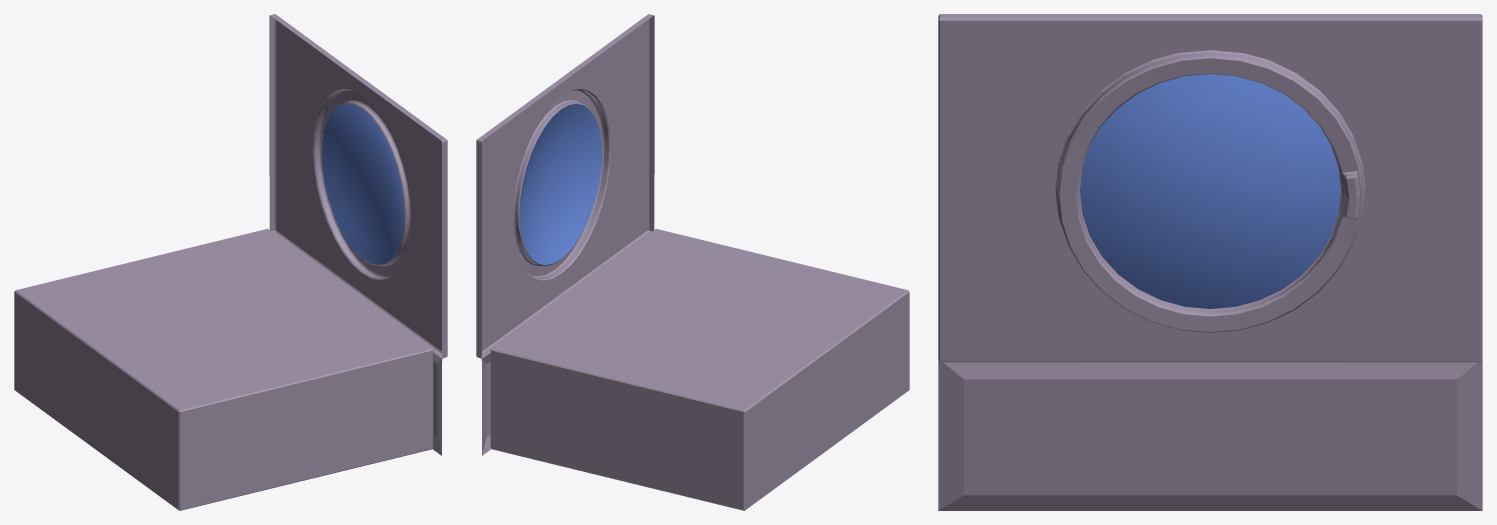
Rendered from Stove Mod (Washing Machine).fbx.
3 renders of one model, left to right at view 1: azimuth 30°, elevation 25°; view 2: azimuth 150°, elevation 25°; view 3: azimuth 270°, elevation 25°, orthographic. The views are drawn at different scales.
Visible parts, largest first — view 1: Stove Mod (Washing Machine); view 2: Stove Mod (Washing Machine); view 3: Stove Mod (Washing Machine).
Boxes of the visible parts, box(x1,y1,x2,y2) form: Stove Mod (Washing Machine): box(14, 14, 447, 510); Stove Mod (Washing Machine): box(476, 14, 909, 510); Stove Mod (Washing Machine): box(938, 14, 1482, 510).
Size of the model in its own units: 0.9102 by 0.9773 by 0.9706.
